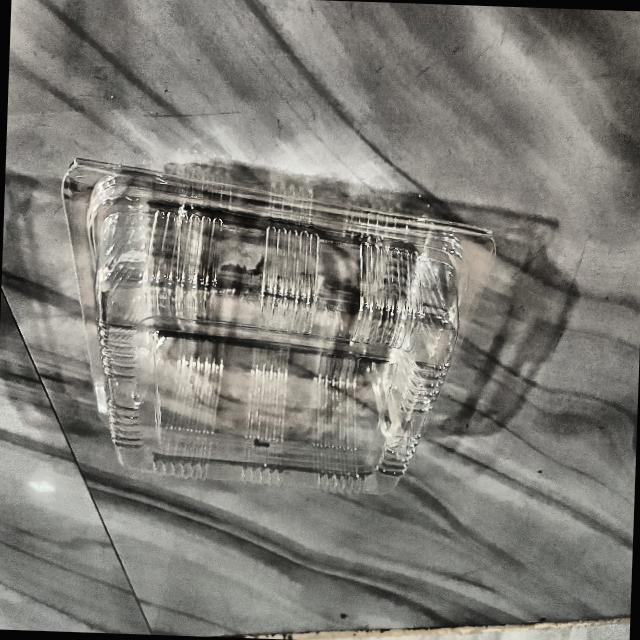plastic container: (44, 137, 493, 518)
